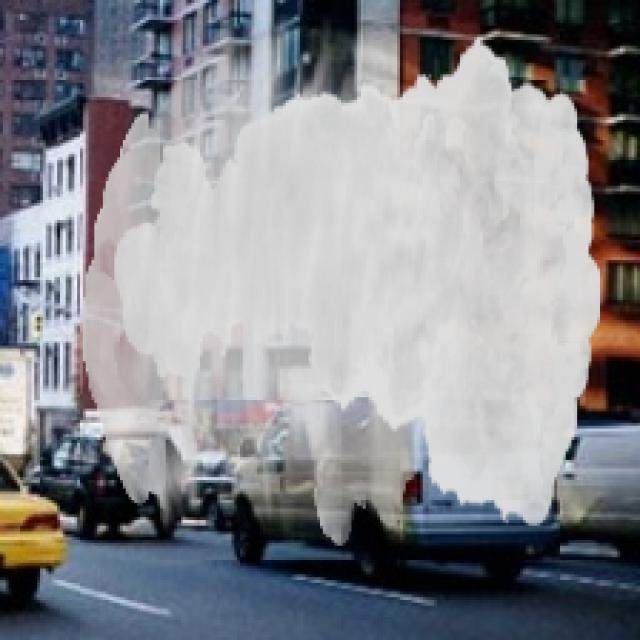smoke: (83, 14, 603, 546)
